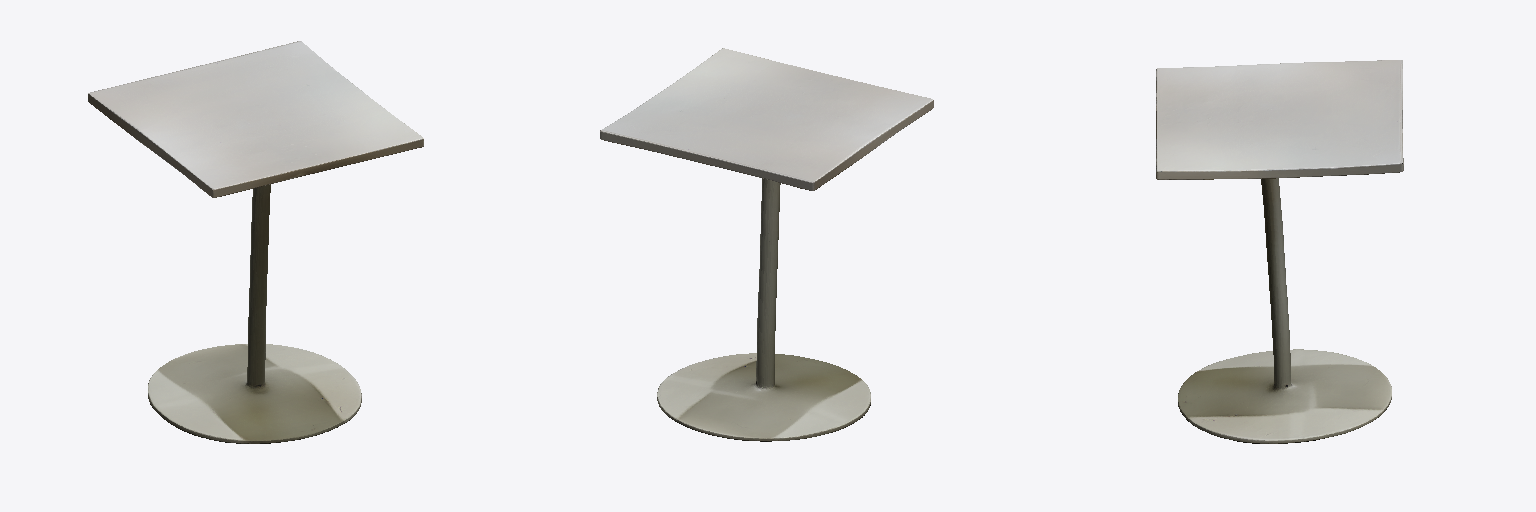
The picture shows the model from 3 angles: view 1: azimuth 30°, elevation 25°; view 2: azimuth 150°, elevation 25°; view 3: azimuth 270°, elevation 25°; orthographic projection.
Parts seen in each view (by area): view 1: geometry_0; view 2: geometry_0; view 3: geometry_0.
Part boxes in pixels (left/top/right/bottom): geometry_0: left=88, top=41, right=423, bottom=443; geometry_0: left=600, top=48, right=933, bottom=441; geometry_0: left=1156, top=60, right=1403, bottom=443.
Size of the model in its own units: 0.7682 by 0.9922 by 0.7686.
Materials: 1 (1 with a texture image).